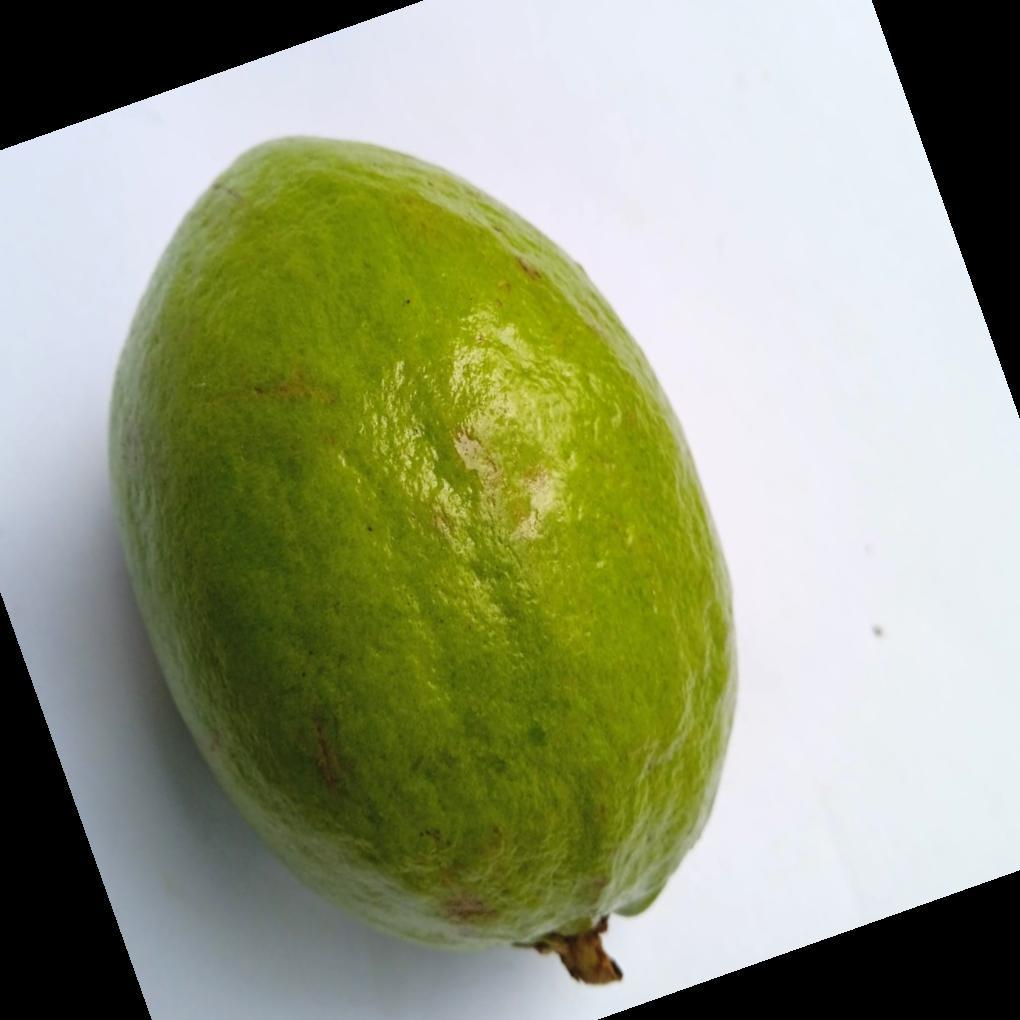FreshGuava: (106, 136, 739, 964)
